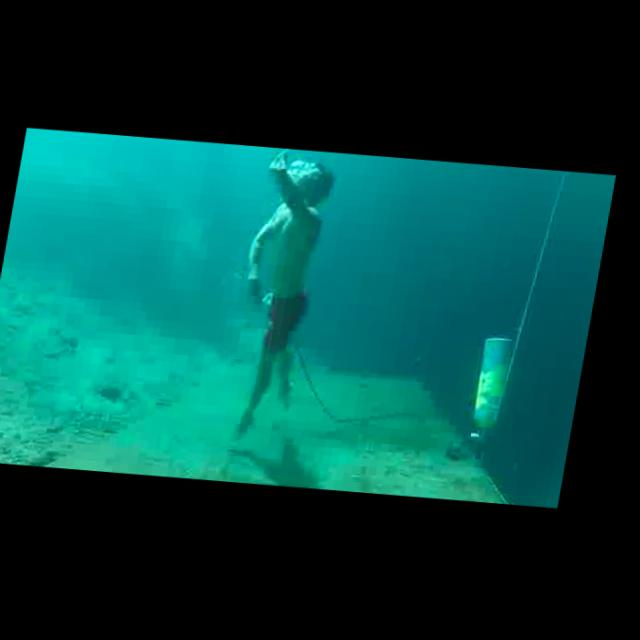human: (214, 146, 343, 445)
